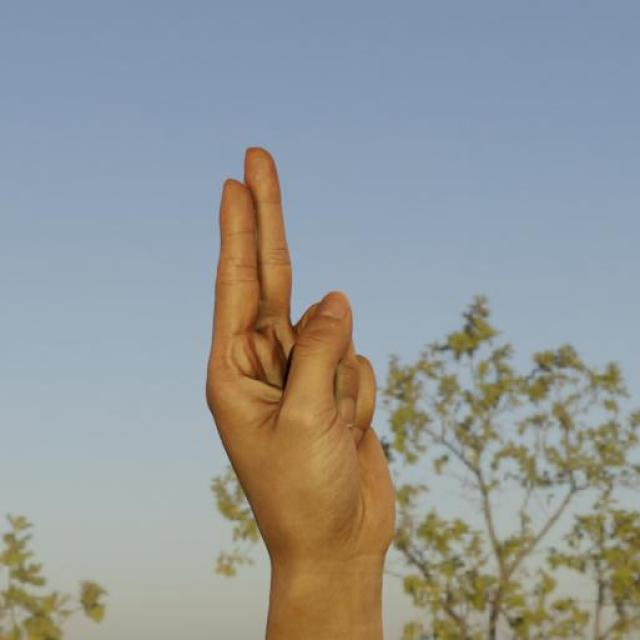U: (200, 139, 403, 590)
